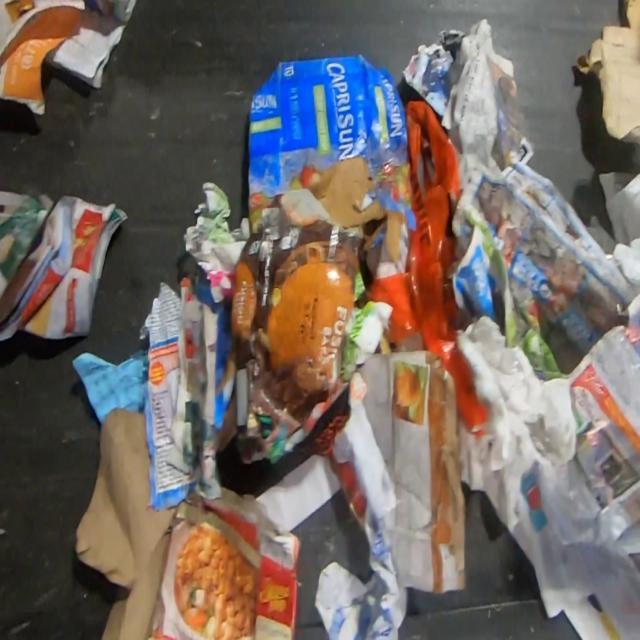cardboard: (215, 189, 364, 464), (246, 53, 414, 281), (74, 405, 178, 639), (152, 485, 300, 639), (574, 0, 640, 143)
soft_plastic: (369, 99, 488, 437)
